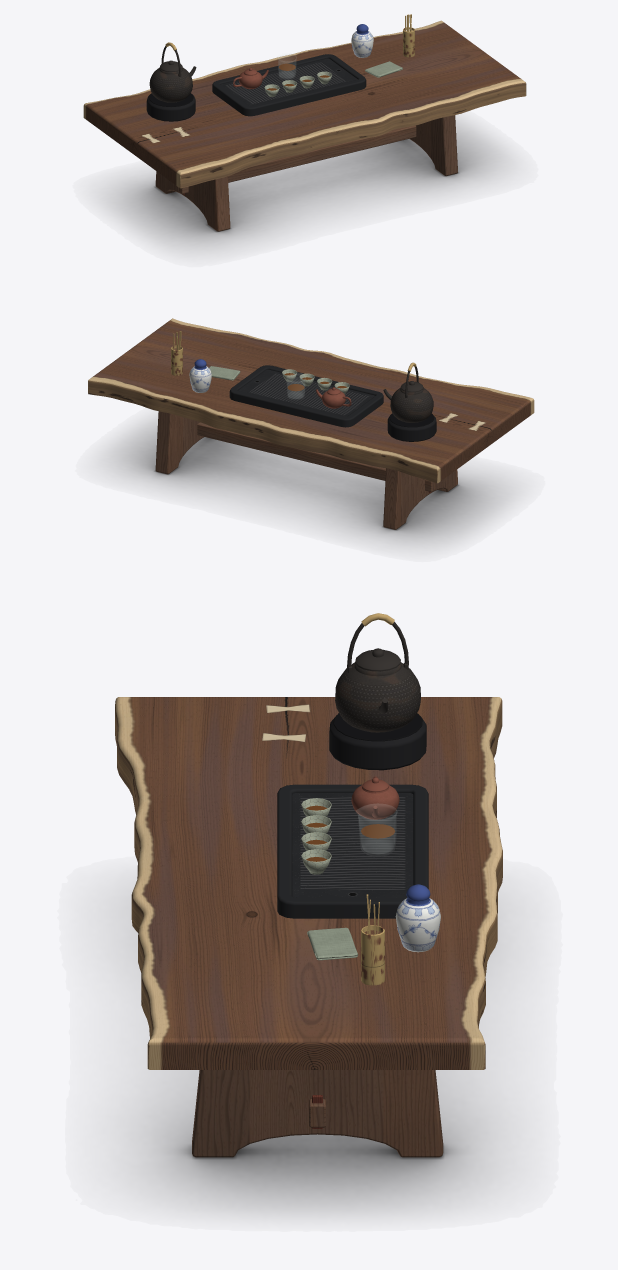
Rendered from tea_table.glb.
3 views of the same model, one above another, from view 1: azimuth 30°, elevation 25°; view 2: azimuth 150°, elevation 25°; view 3: azimuth 270°, elevation 25° (orthographic). The views are drawn at different scales.
Visible parts, largest first — view 1: tea_table_LOD0, tea_table_Shadow; view 2: tea_table_LOD0, tea_table_Shadow; view 3: tea_table_LOD0, tea_table_Shadow.
Part boxes in pixels (x1,y1,x2,y2): tea_table_LOD0: (83,14,526,231); tea_table_Shadow: (110,122,501,247); tea_table_LOD0: (88,318,534,529); tea_table_Shadow: (112,420,505,543); tea_table_LOD0: (115,613,502,1157); tea_table_Shadow: (135,933,492,1210).
Size of what is drawn, in the model's own units: 2.02 by 0.68 by 1.17.
Materials: 7 (6 with a texture image).
